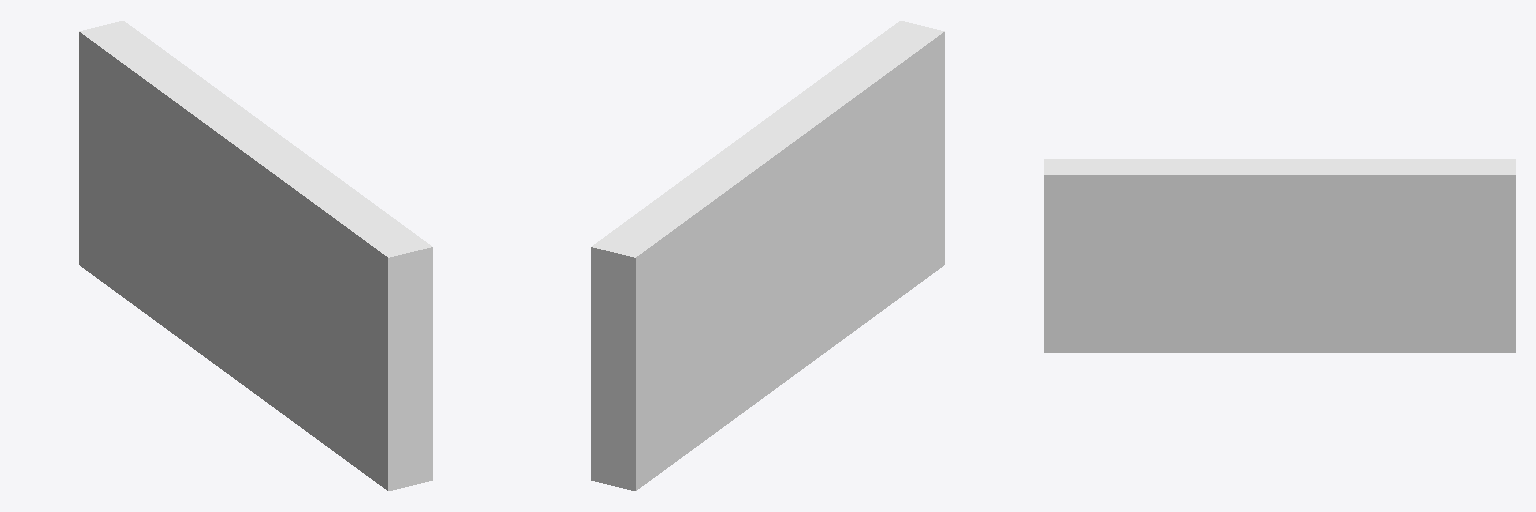
robot.urdf — side_boundary_cefang.SLDPRT:
<?xml version="1.0" encoding="utf-8"?>
<!-- This URDF was automatically created by SolidWorks to URDF Exporter! Originally created by [author] ([email redacted]) 
     Commit Version: 1.5.1-0-g916b5db  Build Version: 1.5.7152.31018
     For more information, please see http://wiki.ros.org/sw_urdf_exporter -->
<robot
  name="side_boundary_cefang.SLDPRT">
  <link
    name="side_boundary_cefang.SLDPRT">
    <inertial>
      <origin
        xyz="0.01 -0.12 0.05"
        rpy="0 0 0" />
      <mass
        value="0.48" />
      <inertia
        ixx="0.002704"
        ixy="7.1299E-19"
        ixz="4.90430042105908E-35"
        iyy="0.000416"
        iyz="1.1658252488389E-19"
        izz="0.00232" />
    </inertial>
    <visual>
      <origin
        xyz="0 0 0"
        rpy="1.5707963267949 0 0" />
      <geometry>
        <mesh
          filename="package://side_boundary_cefang.SLDPRT/meshes/side_boundary_cefang.SLDPRT.STL" />
      </geometry>
      <material
        name="">
        <color
          rgba="1 1 1 1" />
        <texture
          filename="package://side_boundary_cefang.SLDPRT/textures/" />
      </material>
    </visual>
    <collision>
      <origin
        xyz="0 0 0"
        rpy="1.5707963267949 0 0" />
      <geometry>
        <mesh
          filename="package://side_boundary_cefang.SLDPRT/meshes/side_boundary_cefang.SLDPRT.STL" />
      </geometry>
    </collision>
  </link>
</robot>

--- Facts derived from the render (not from the file) ---
The picture shows the robot from 3 angles, left to right: view 1: azimuth 30°, elevation 25°; view 2: azimuth 150°, elevation 25°; view 3: azimuth 270°, elevation 25°; orthographic projection.
Model side_boundary_cefang.SLDPRT with 1 links and 0 joints (none), rooted at side_boundary_cefang.SLDPRT, posed every joint at zero.
Links seen in each view (by area): view 1: side_boundary_cefang.SLDPRT; view 2: side_boundary_cefang.SLDPRT; view 3: side_boundary_cefang.SLDPRT.
Link boxes in pixels (x1,y1,x2,y2): side_boundary_cefang.SLDPRT: (79,21,432,490); side_boundary_cefang.SLDPRT: (591,21,944,490); side_boundary_cefang.SLDPRT: (1044,159,1515,352).
Size in the robot's own frame: 0.02 by 0.24 by 0.1 metres.
Meshes: 1 distinct files referenced, 1 mesh visuals loaded (1 binary STL).